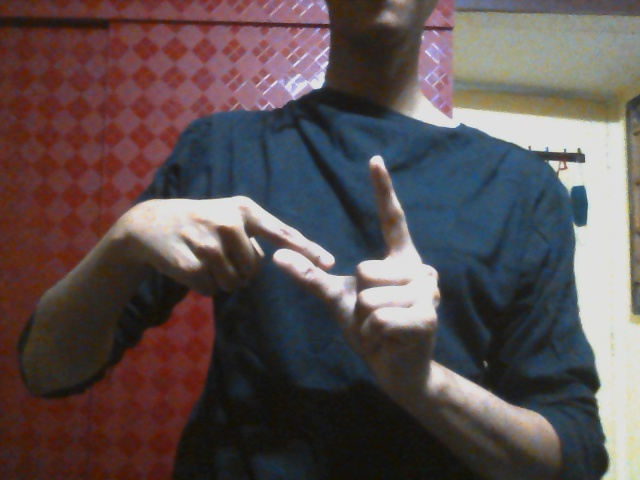J: (100, 152, 441, 375)
